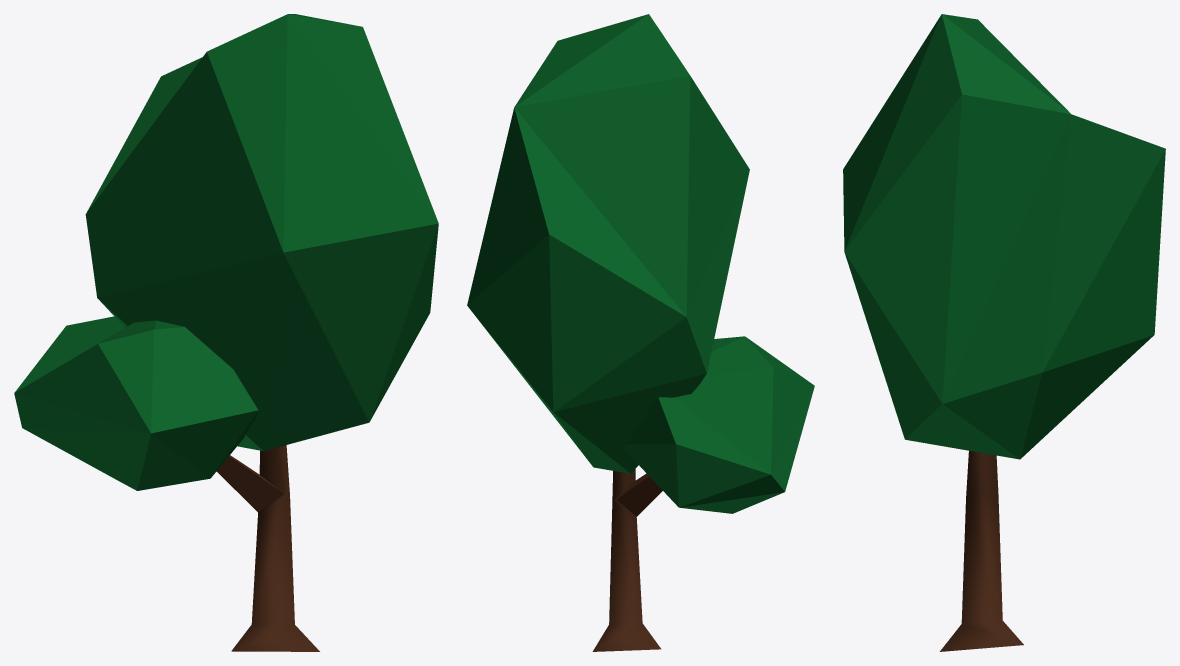
The model's file is Tree2.FBX.
3 renders of one model, left to right at view 1: azimuth 30°, elevation 25°; view 2: azimuth 150°, elevation 25°; view 3: azimuth 270°, elevation 25°, orthographic. The views are drawn at different scales.
Visible parts, largest first — view 1: Sphere197; view 2: Sphere197; view 3: Sphere197.
Part boxes in pixels (x1,y1,x2,y2): Sphere197: [14, 14, 438, 651]; Sphere197: [467, 14, 814, 651]; Sphere197: [843, 14, 1165, 651].
Bounding box in the file's own units: 6.46 × 11.46 × 5.38.
